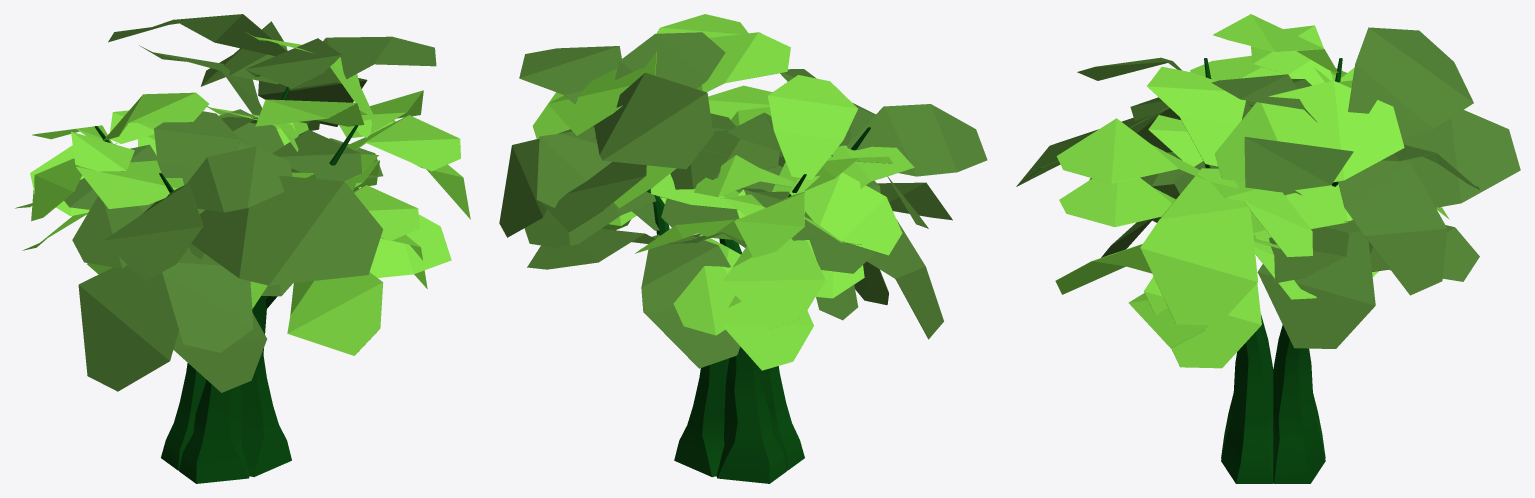
File: tree2.fbx
3 views of the same model, side by side, from view 1: azimuth 30°, elevation 25°; view 2: azimuth 150°, elevation 25°; view 3: azimuth 270°, elevation 25° (orthographic). The views are drawn at different scales.
Parts seen in each view (by area): view 1: tree2; view 2: tree2; view 3: tree2.
Boxes of the visible parts, left/top/right/bottom form: tree2: left=15, top=14, right=470, bottom=483; tree2: left=499, top=14, right=987, bottom=483; tree2: left=1016, top=14, right=1520, bottom=483.
Size of the model in its own units: 2479 by 2488 by 2674.
